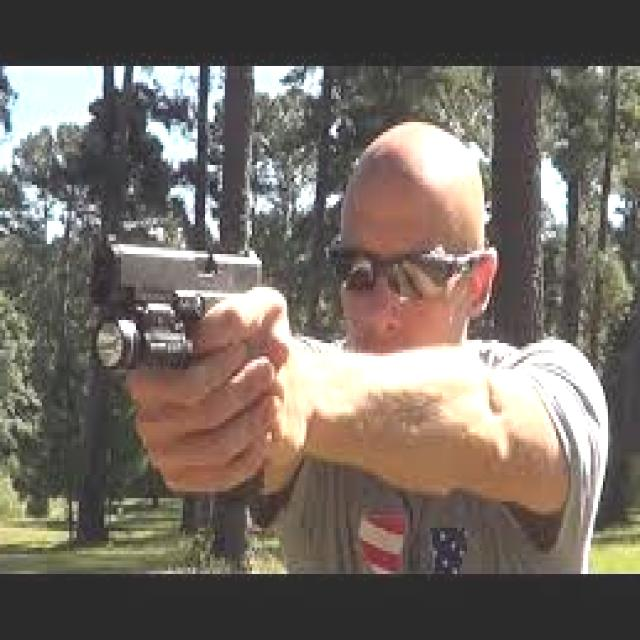pistol: (92, 231, 270, 511)
